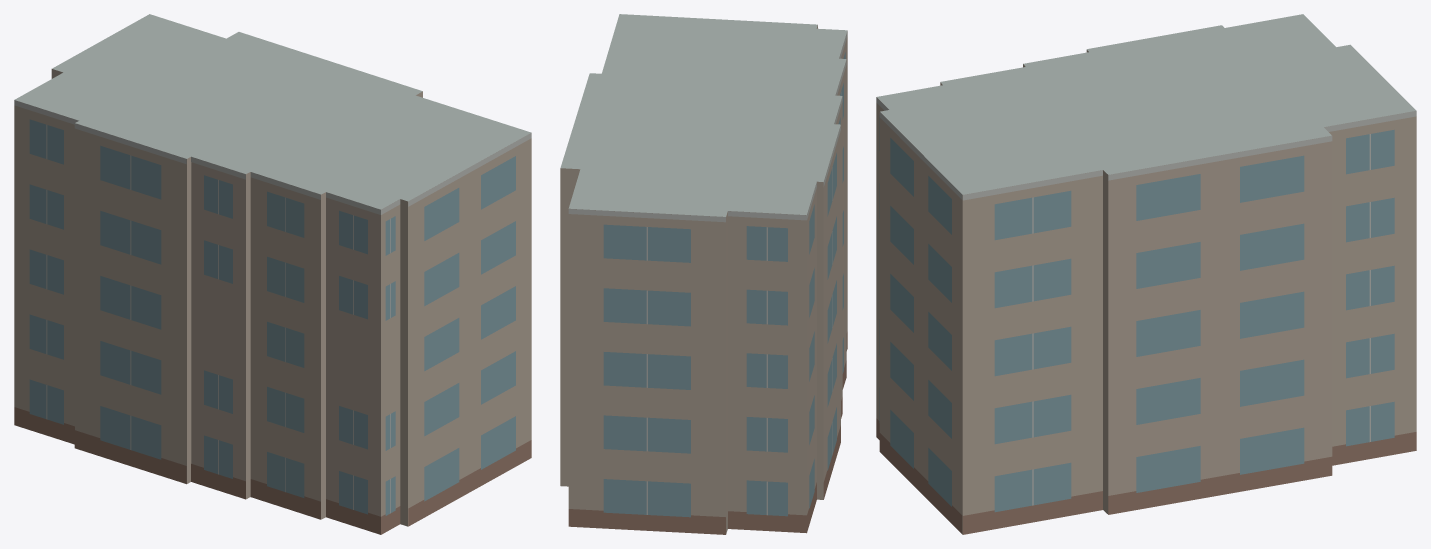
Rendered from survey-upis-32873253.glb.
3 renders of one model, left to right at view 1: azimuth 30°, elevation 25°; view 2: azimuth 150°, elevation 25°; view 3: azimuth 270°, elevation 25°, orthographic. The views are drawn at different scales.
Visible parts, largest first — view 1: survey-upis-32873253.tmp; view 2: survey-upis-32873253.tmp; view 3: survey-upis-32873253.tmp.
Part boxes in pixels (x1,y1,x2,y2): survey-upis-32873253.tmp: (14,14,531,534); survey-upis-32873253.tmp: (560,14,847,534); survey-upis-32873253.tmp: (876,14,1416,534).
Size of the model in its own units: 16.67 by 14.6 by 21.03.
